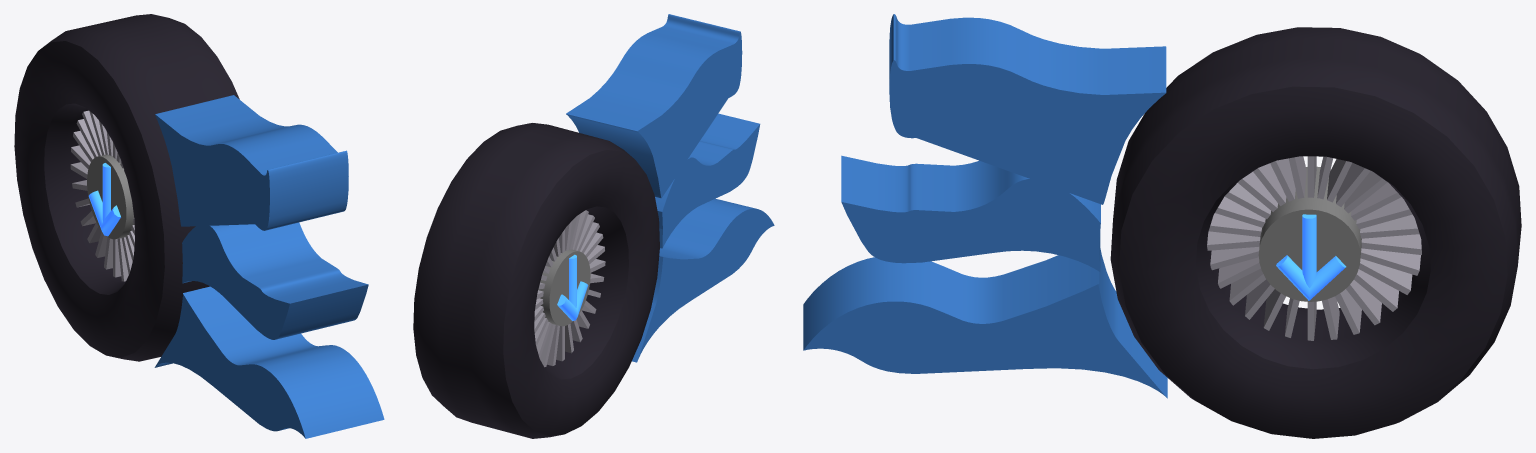
Rendered from Powerup_Slow_Final.fbx.
3 views of the same model, side by side, from view 1: azimuth 30°, elevation 25°; view 2: azimuth 150°, elevation 25°; view 3: azimuth 270°, elevation 25° (orthographic). The views are drawn at different scales.
Visible parts, largest first — view 1: PowerupSlowFinal; view 2: PowerupSlowFinal; view 3: PowerupSlowFinal.
Boxes of the visible parts, <box> form: PowerupSlowFinal: <box>14,14,384,438</box>; PowerupSlowFinal: <box>413,14,774,438</box>; PowerupSlowFinal: <box>803,14,1521,438</box>.
Bounding box in the file's own units: 32.18 × 77.03 × 134.
